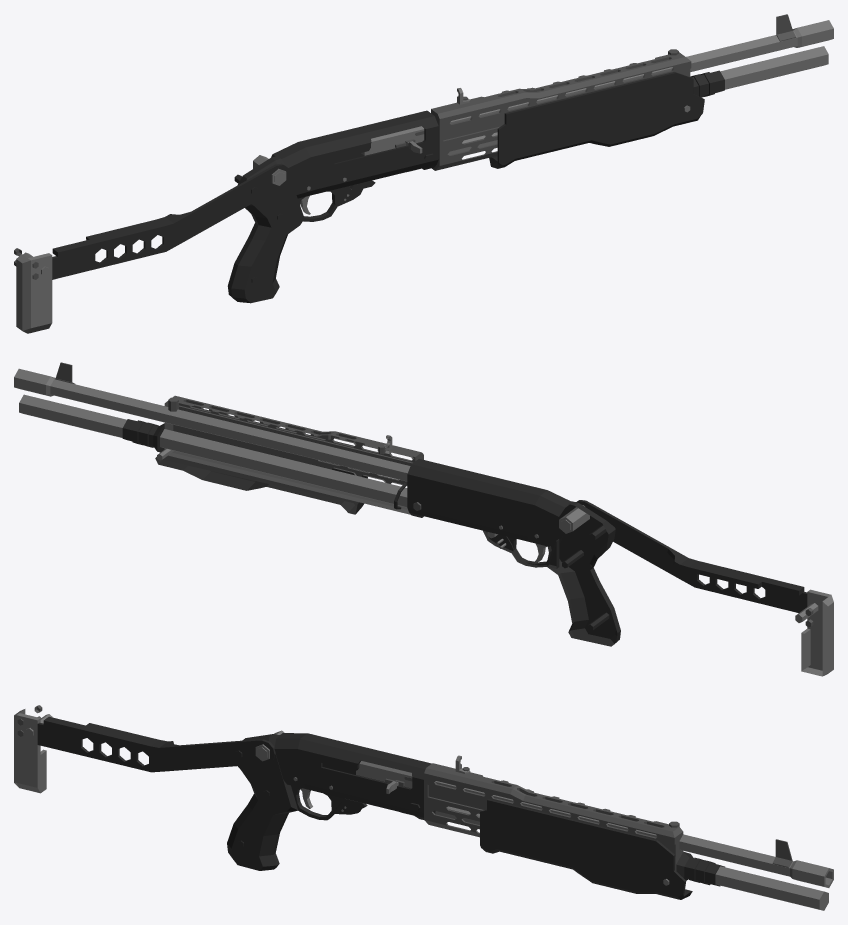
Rendered from Fucile a pompa.fbx.
3 renders of one model, top to bottom at view 1: azimuth 30°, elevation 25°; view 2: azimuth 150°, elevation 25°; view 3: azimuth 330°, elevation 25°, orthographic.
Visible parts, largest first — view 1: Fucile a pompa; view 2: Fucile a pompa; view 3: Fucile a pompa.
Boxes of the visible parts, bbox=[...] form: Fucile a pompa: bbox=[14, 14, 833, 333]; Fucile a pompa: bbox=[14, 362, 833, 676]; Fucile a pompa: bbox=[14, 705, 833, 910].
Bounding box in the file's own units: 109 × 20.14 × 6.73.
